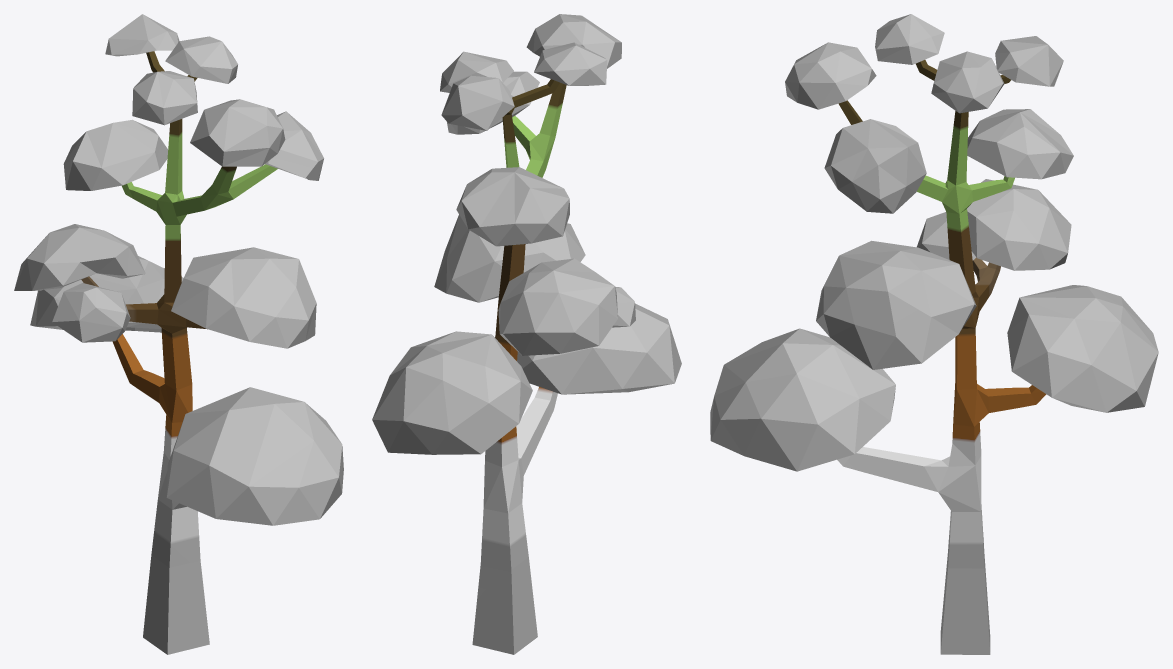
The model's file is Tree_29.fbx.
The picture shows the model from 3 angles, left to right: view 1: azimuth 30°, elevation 25°; view 2: azimuth 150°, elevation 25°; view 3: azimuth 270°, elevation 25°; orthographic projection. The views are drawn at different scales.
Visible parts, largest first — view 1: Tree_29; view 2: Tree_29; view 3: Tree_29.
Part boxes in pixels (box(x1,y1,x2,y2)): Tree_29: box(14, 14, 343, 654); Tree_29: box(372, 14, 681, 654); Tree_29: box(710, 14, 1158, 654).
Bounding box in the file's own units: 4.65 × 11.55 × 7.72.
